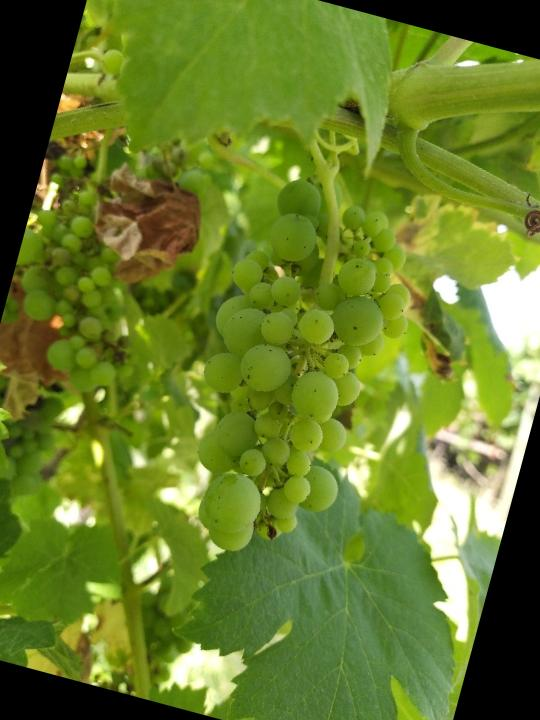grape: (151, 158, 443, 581)
